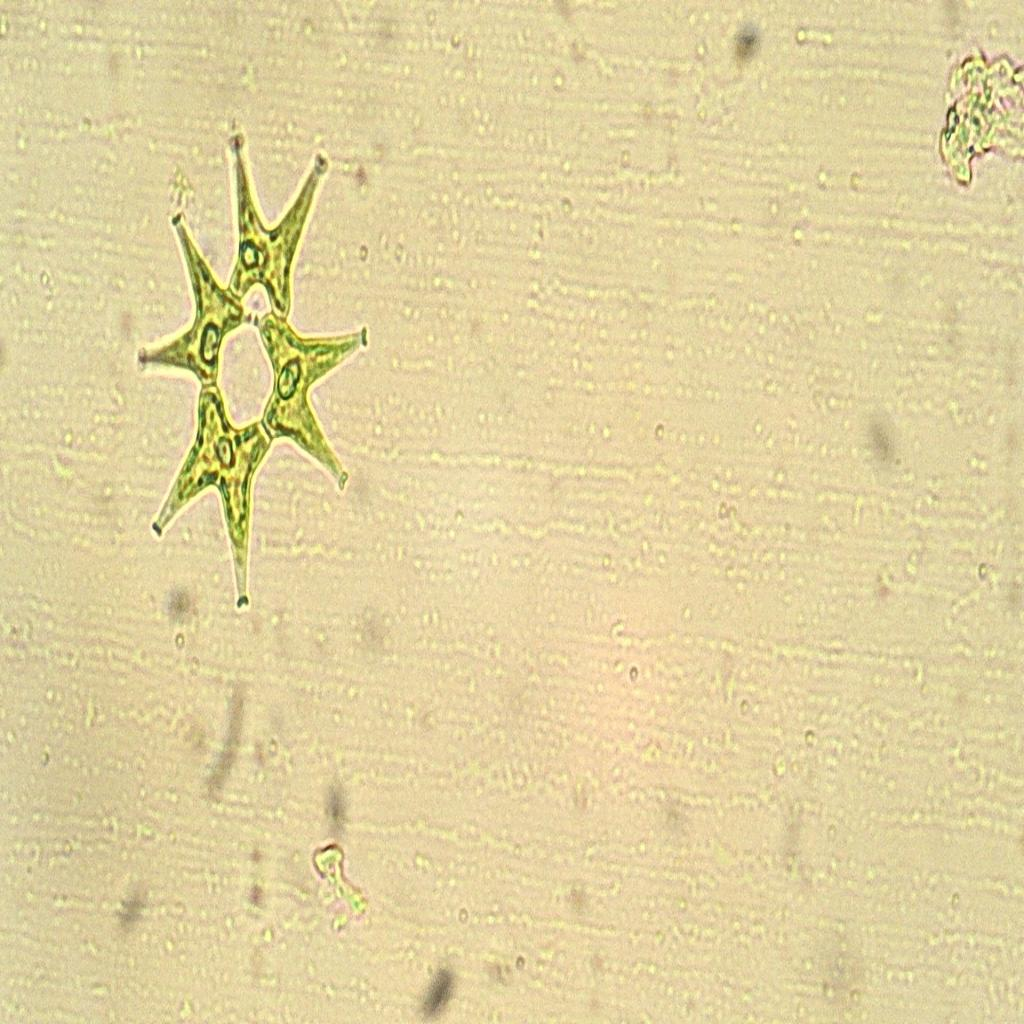Pediastrum_75FO: (130, 98, 374, 619)
